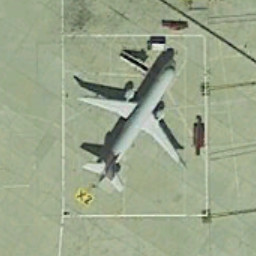Airplane: (68, 39, 193, 197)
